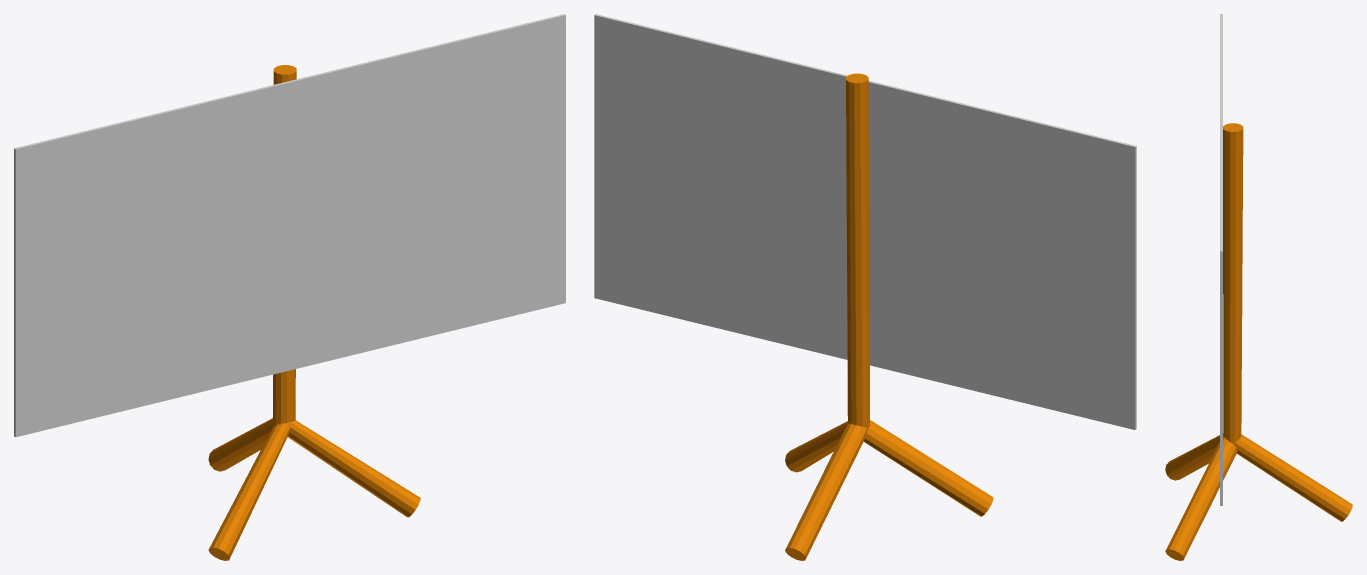
File: projectorScreen.fbx
3 views of the same model, side by side, from view 1: azimuth 30°, elevation 25°; view 2: azimuth 150°, elevation 25°; view 3: azimuth 270°, elevation 25° (orthographic). The views are drawn at different scales.
Visible parts, largest first — view 1: ProjectorScreen; view 2: ProjectorScreen; view 3: ProjectorScreen.
Boxes of the visible parts, box(x1,y1,x2,y2) form: ProjectorScreen: box(14, 14, 565, 560); ProjectorScreen: box(594, 14, 1136, 560); ProjectorScreen: box(1165, 14, 1352, 560).
Bounding box in the file's own units: 800 × 619 × 267.
